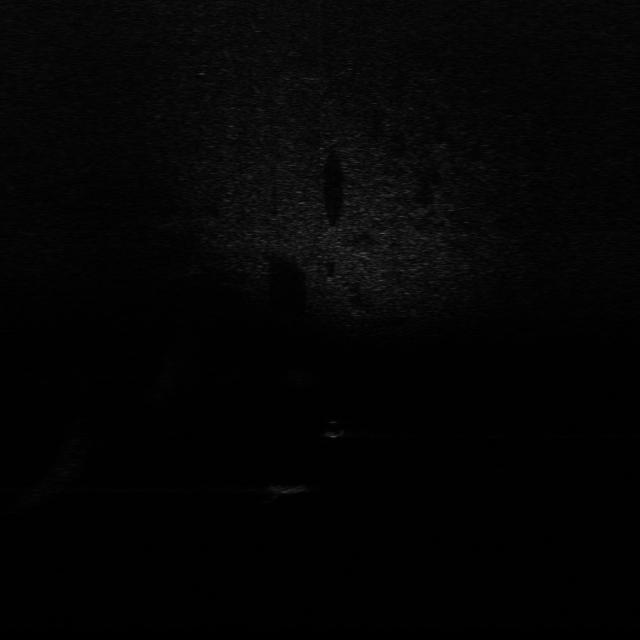ball: (317, 417, 348, 441)
square cage: (263, 482, 316, 499)
